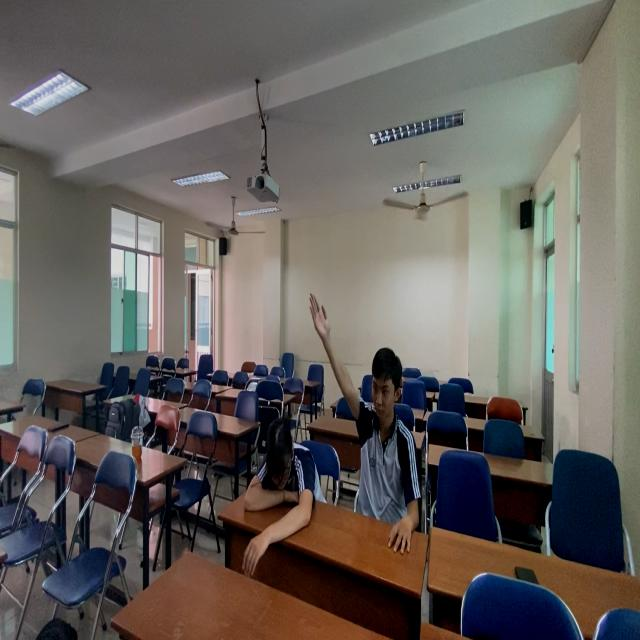raise_hand: (311, 291, 418, 529)
sleep: (237, 422, 326, 542)
